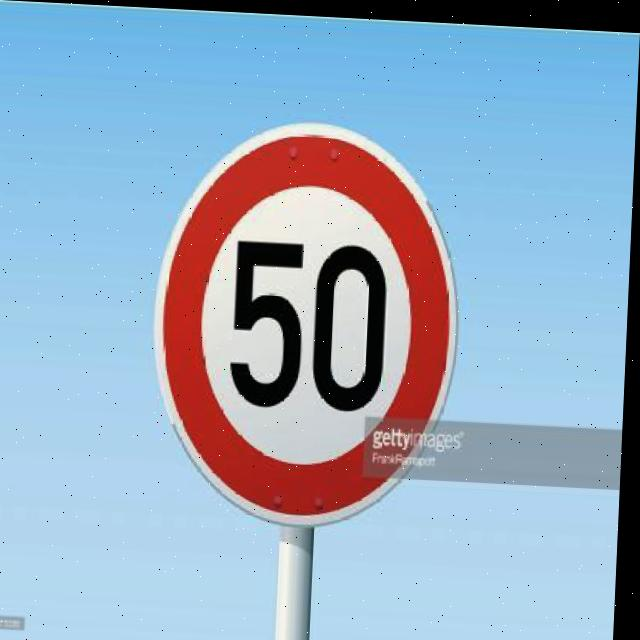Speed limit 50: (148, 109, 471, 533)
